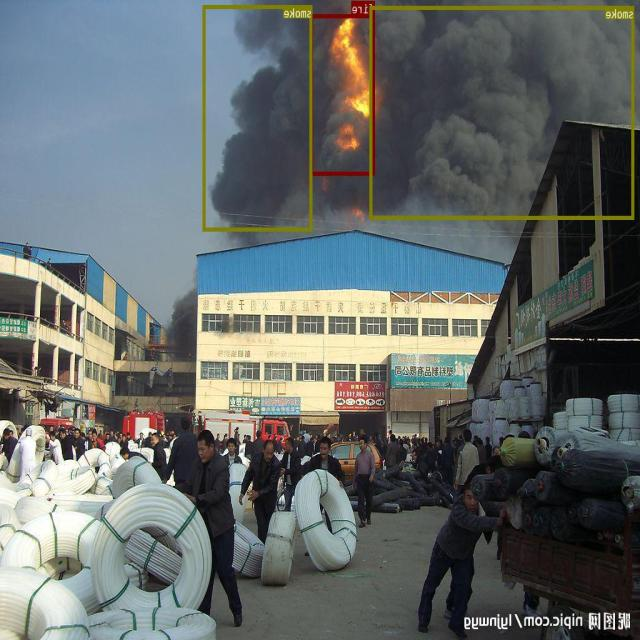fire: (311, 14, 375, 175)
smoke: (370, 6, 635, 219), (204, 5, 312, 230)
